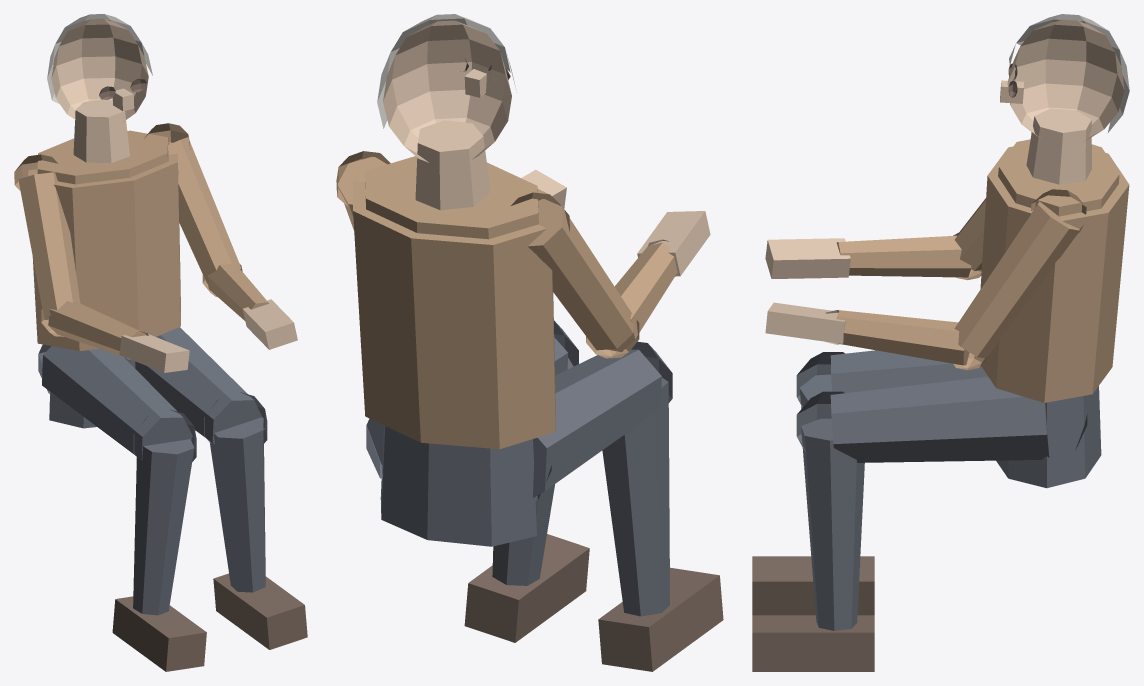
Rendered from low-poly-character-figures-elder-seated-9f8d2c6f__36354.glb.
3 renders of one model, left to right at view 1: azimuth 30°, elevation 25°; view 2: azimuth 150°, elevation 25°; view 3: azimuth 270°, elevation 25°, orthographic. The views are drawn at different scales.
Parts seen in each view (by area): view 1: elder-seated; view 2: elder-seated; view 3: elder-seated.
Part boxes in pixels (x1,y1,x2,y2): elder-seated: (14,14,307,671); elder-seated: (336,14,723,671); elder-seated: (752,14,1129,671).
Size of the model in its own units: 0.487 by 1.28 by 0.7079.
